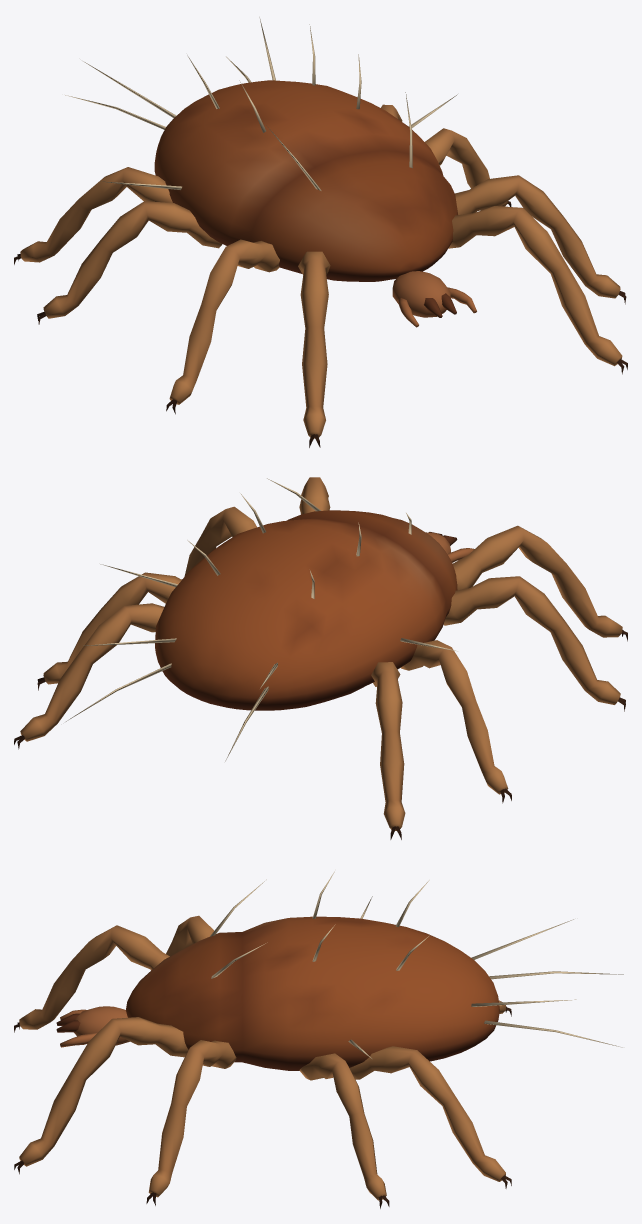
File: Protacarus.fbx
The picture shows the model from 3 angles, top to bottom: view 1: azimuth 30°, elevation 25°; view 2: azimuth 150°, elevation 25°; view 3: azimuth 270°, elevation 25°; orthographic projection. The views are drawn at different scales.
Visible parts, largest first — view 1: Protacarus; view 2: Protacarus; view 3: Protacarus.
Part boxes in pixels (bbox=[...]): Protacarus: bbox=[14, 17, 627, 447]; Protacarus: bbox=[14, 477, 627, 839]; Protacarus: bbox=[14, 871, 623, 1208].
Size of the model in its own units: 1.36 by 0.6079 by 1.64.
